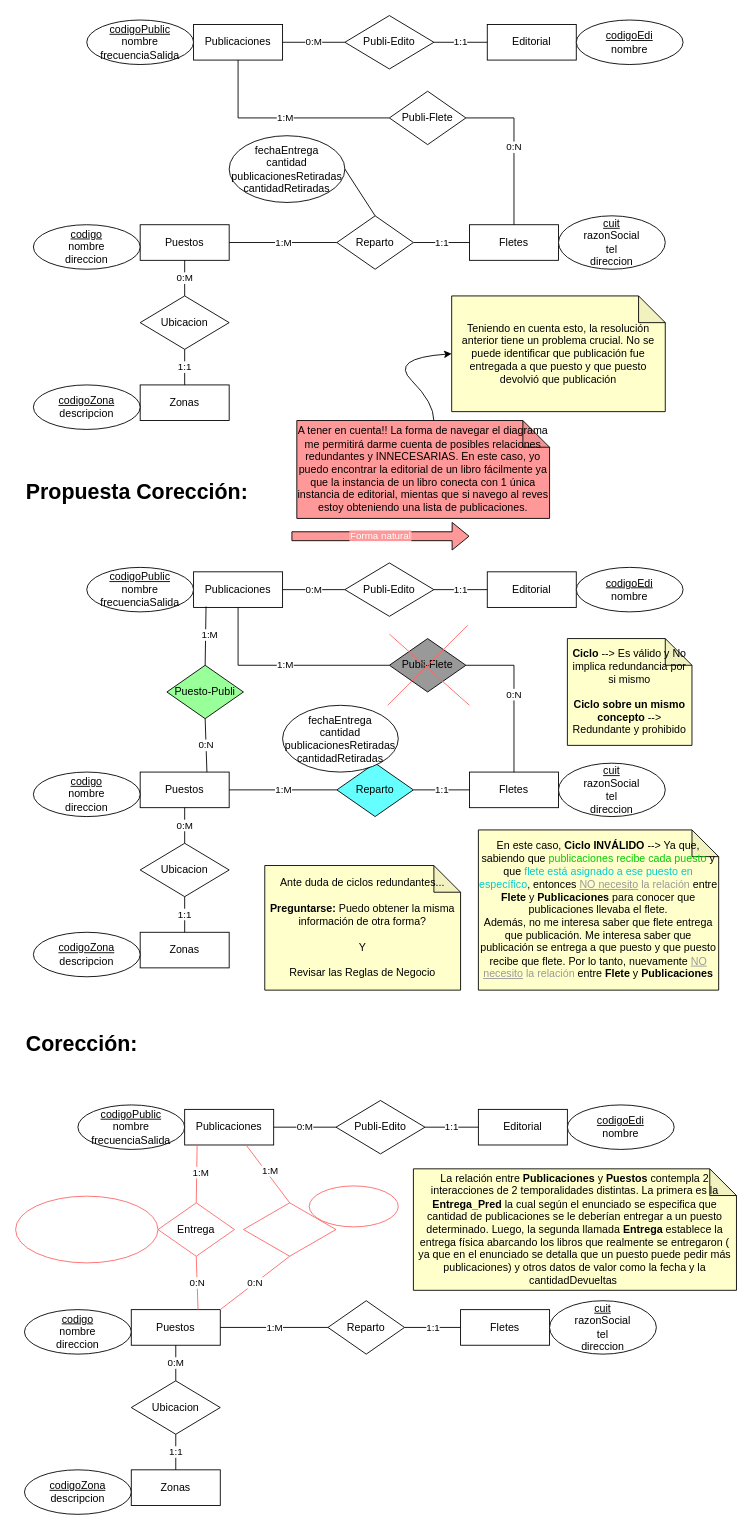
The diagram is 752 pixels wide and 1530 high, and some of its shapes have lost their labels. Each missing label, with the centre of its shape:
cantidadPred: pixel 353 1206
Entrega_Pred: pixel 289 1229
fechaEntrega cantidad_Real cantidadDevueltas: pixel 86 1229
